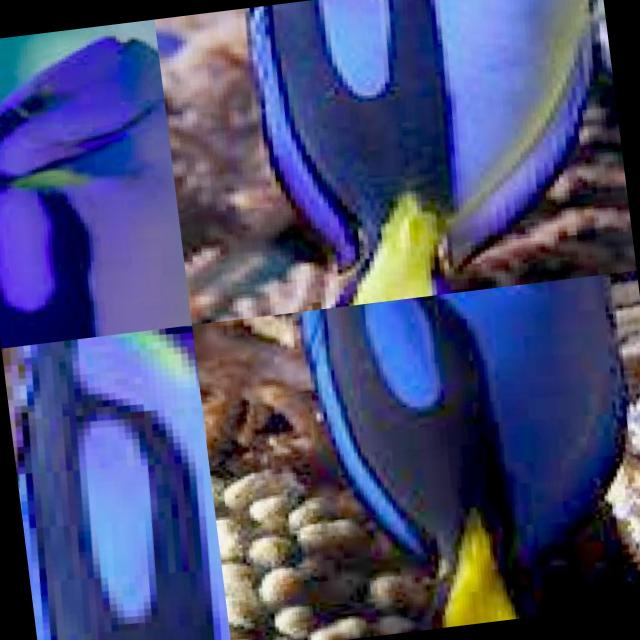BlueTang: (297, 271, 640, 640), (238, 0, 622, 300), (1, 323, 232, 640), (0, 18, 191, 347)
